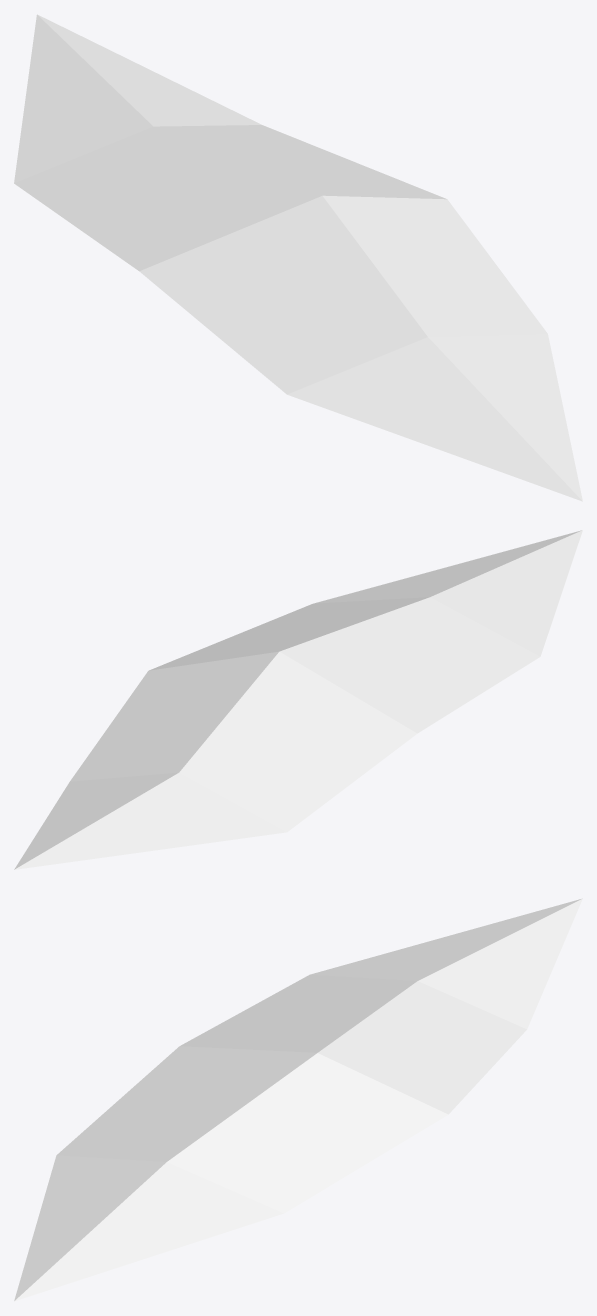
Rendered from Palm_Leave_OneSided_Snow_04.fbx.
3 renders of one model, top to bottom at view 1: azimuth 30°, elevation 25°; view 2: azimuth 150°, elevation 25°; view 3: azimuth 330°, elevation 25°, orthographic. The views are drawn at different scales.
Parts seen in each view (by area): view 1: Palm_Leave_OneSided_Snow_04; view 2: Palm_Leave_OneSided_Snow_04; view 3: Palm_Leave_OneSided_Snow_04.
Part boxes in pixels (<box>): Palm_Leave_OneSided_Snow_04: <box>14,14,582,501</box>; Palm_Leave_OneSided_Snow_04: <box>14,530,582,869</box>; Palm_Leave_OneSided_Snow_04: <box>14,898,582,1301</box>.
Size of the model in its own units: 89.34 by 20.15 by 301.
